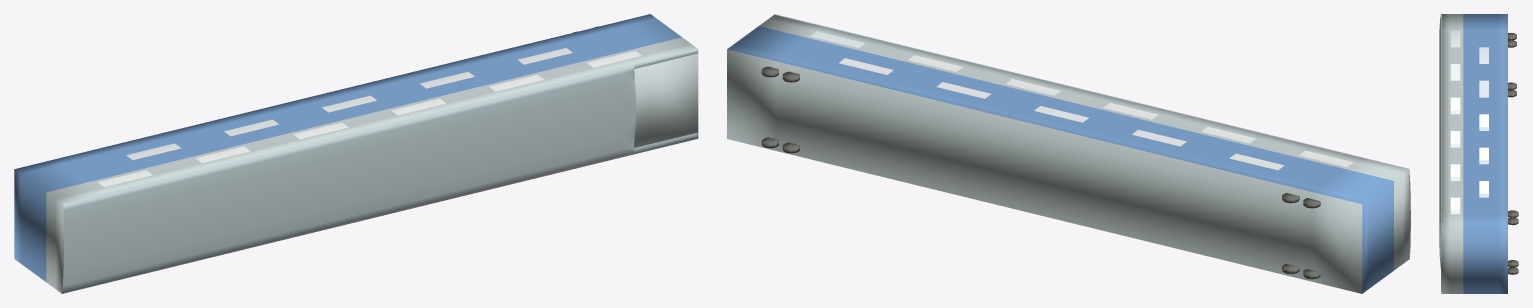
The model's file is asset5.glb.
3 views of the same model, side by side, from view 1: azimuth 30°, elevation 25°; view 2: azimuth 150°, elevation 25°; view 3: azimuth 270°, elevation 25° (orthographic). The views are drawn at different scales.
Visible parts, largest first — view 1: Cylinder2, Cube12, Cube15; view 2: Cube12, Cylinder2, Cube15; view 3: Cube12, Cube15, Cylinder2, Cylinder4_copy11, Cylinder4_copy6, Cylinder4_copy10, Cylinder4_copy7, Cylinder4_copy8, Cylinder4_copy9, Cylinder4.
Boxes of the visible parts, x1,y1,x2,y2 form: Cylinder2: (60,48,698,293); Cube12: (14,14,698,293); Cube15: (98,48,641,186); Cube12: (727,14,1409,293); Cylinder2: (774,14,1410,259); Cube15: (810,31,1353,170); Cube12: (1441,14,1507,293); Cube15: (1450,30,1488,214); Cylinder2: (1439,14,1441,291); Cylinder4_copy11: (1508,210,1518,217); Cylinder4_copy6: (1508,267,1518,274); Cylinder4_copy10: (1508,260,1518,267); Cylinder4_copy7: (1508,217,1518,225); Cylinder4_copy8: (1508,89,1516,97); Cylinder4_copy9: (1508,40,1516,47); Cylinder4: (1508,82,1516,89).
Size of the model in its own units: 1 by 0.1363 by 0.1548.
